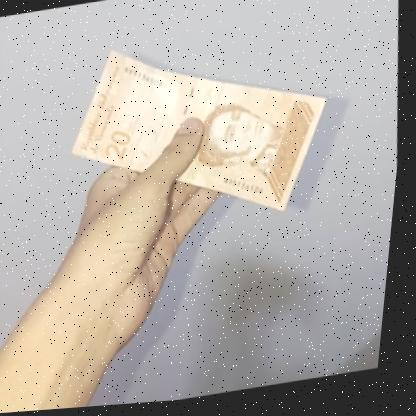vef_front: (55, 18, 347, 249)
